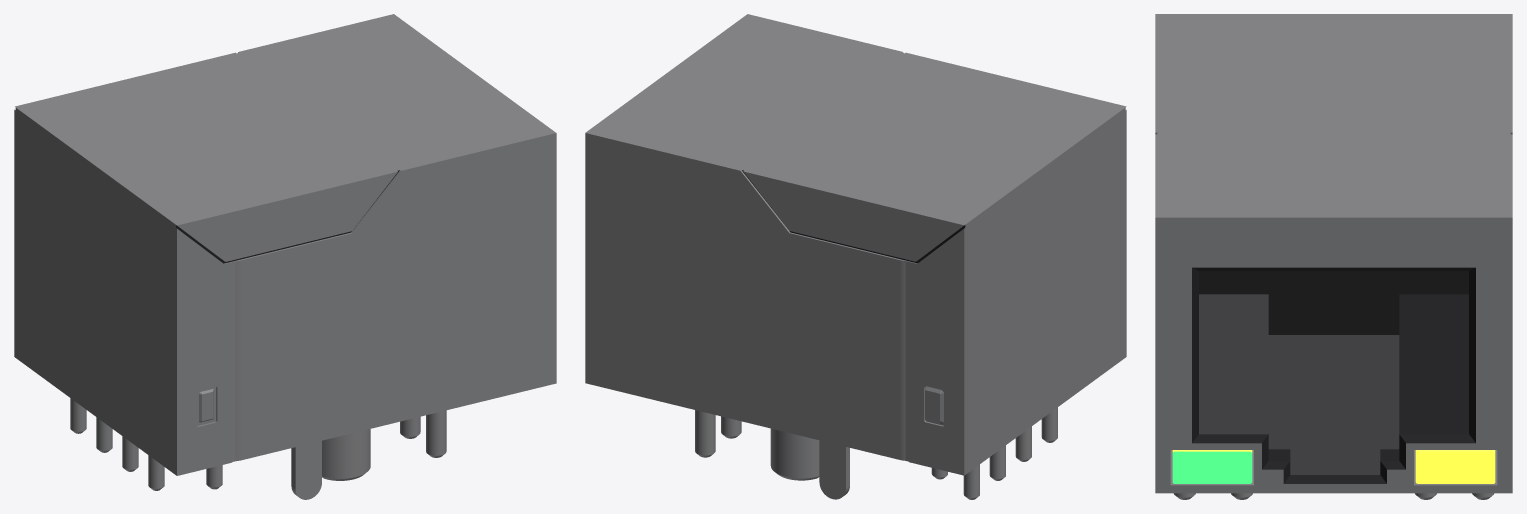
3 renders of one model, left to right at view 1: azimuth 30°, elevation 25°; view 2: azimuth 150°, elevation 25°; view 3: azimuth 270°, elevation 25°, orthographic. The views are drawn at different scales.
Visible parts, largest first — view 1: polySurface154; view 2: polySurface154; view 3: polySurface154.
Boxes of the visible parts, box(x1,y1,x2,y2) form: polySurface154: box(14, 14, 556, 499); polySurface154: box(585, 14, 1126, 499); polySurface154: box(1155, 14, 1512, 499).
Bounding box in the file's own units: 2.14 × 1.65 × 1.59.
